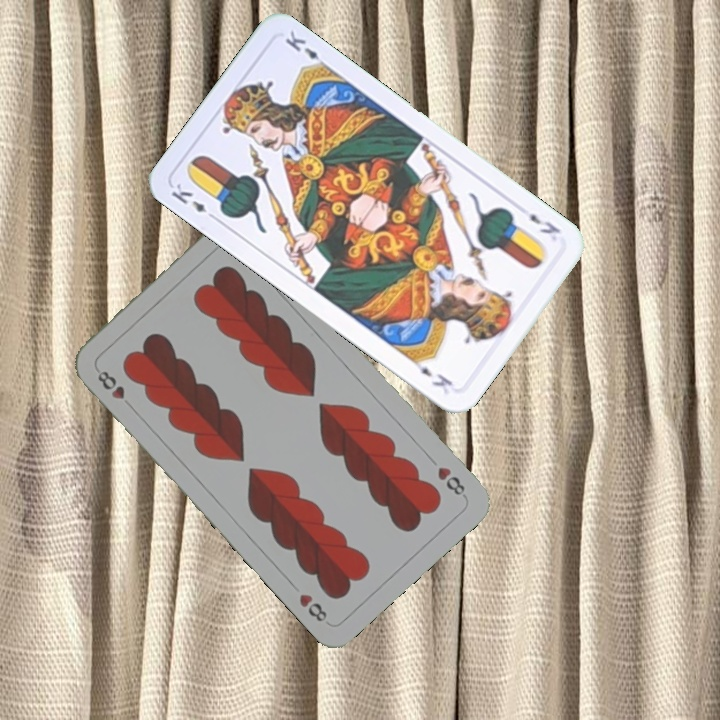EK: (167, 179, 220, 224), (525, 209, 563, 237)
H8: (93, 366, 137, 412), (433, 462, 469, 501)
